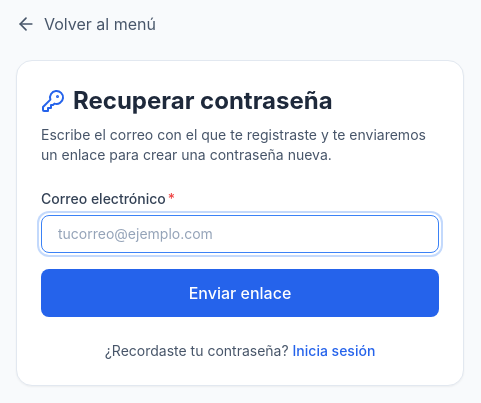
Test case: ForgotPassword › muestra un mensaje genérico tras enviar
Type "ana@example.com" into the field labelled "Correo electrónico*" at (240,234), box [41,215,439,253]
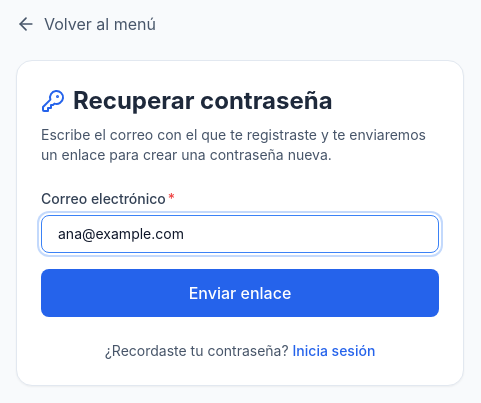
Click the button "Enviar enlace" at (240,293), box [41,269,439,317]
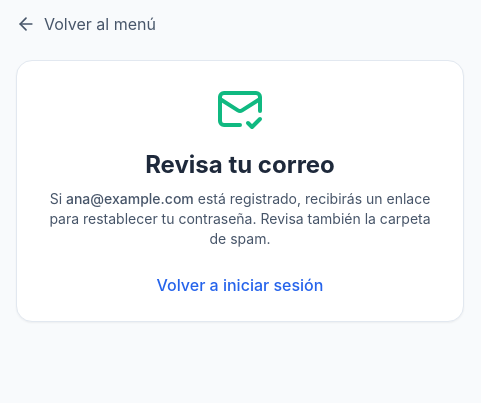
Check: the heading "Revisa tu correo" is shown, box [145,150,335,179]
